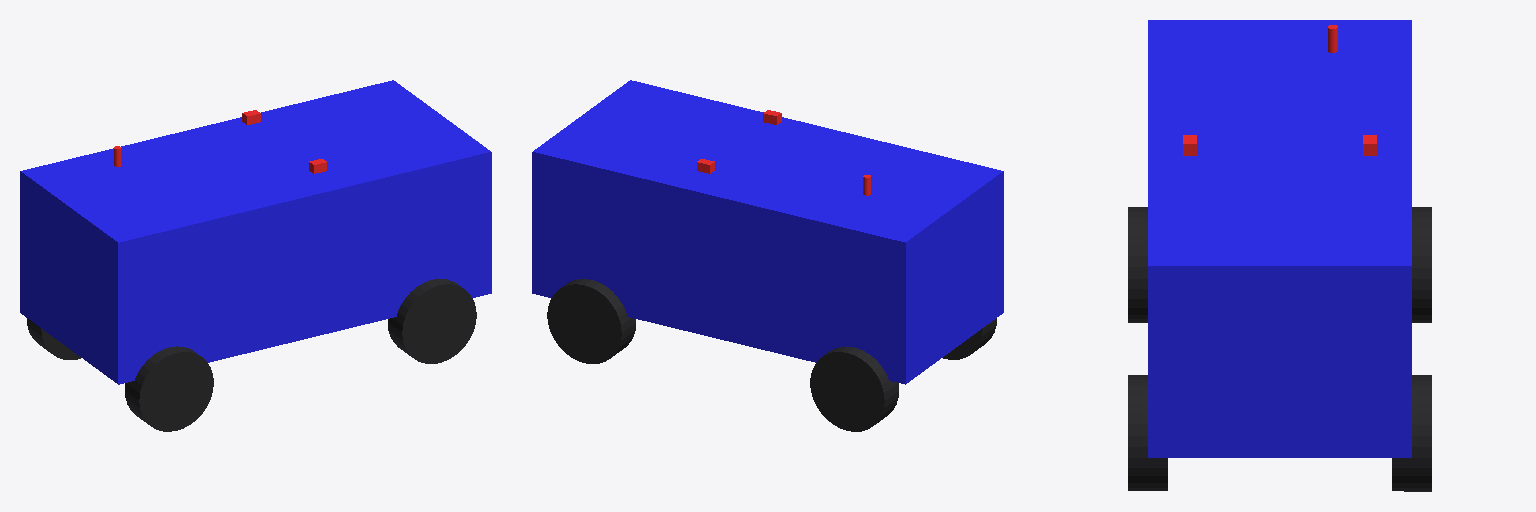
The robot description file, URDF, robot "Chevy":
<?xml version="1.0"?>

<robot name="Chevy">

    <!--   LINKS   -->

    <link name="body">
        <inertial>
            <origin xyz="0 0 0" rpy="0 0 0" />
            <mass value="1000" />
            <!-- TODO Calculate this correclty. And for lower COM"-->
            <inertia ixx="4166.67" ixy="0" ixz="0" iyy="10416.67" iyz="0" izz="10416.67" />
        </inertial>
        <visual>
            <origin xyz="0.5 0 0.05" rpy="0 0 0" />
            <geometry>
                <box size="11.0 5.0 4.0" />
            </geometry>
            <material name="blue">
                <color rgba="0.2 0.2 1.0 1"/>
            </material>
        </visual>
        <collision name="body_bounding_box">
            <origin xyz="0 0 0.05" rpy="0 0 0" />
            <geometry>
                <box size="13.2 5.7 5.3" />
            </geometry>
        </collision>
    </link>

    <link name="camera_1">
        <visual>
            <geometry>
                <box size="0.4 0.25 0.25"/>
            </geometry>
            <material name="red">
                <color rgba="1.0 0.2 0.2 1"/>
            </material>
        </visual>
    </link>
    
    <link name="camera_2">
        <visual>
            <geometry>
                <box size="0.4 0.25 0.25"/>
            </geometry>
            <material name="red">
                <color rgba="1.0 0.2 0.2 1"/>
            </material>
        </visual>
    </link>
    
    <link name="gps">
        <visual>
            <geometry>
                <cylinder radius="0.1" length="0.5"/>
            </geometry>
            <material name="red">
                <color rgba="1.0 0.2 0.2 1"/>
            </material>
        </visual>
    </link>
    
    <link name="imu">
        <visual>
            <geometry>
                <box size="0.5 0.5 0.2"/>
            </geometry>
            <material name="red">
                <color rgba="1.0 0.2 0.2 1"/>
            </material>
        </visual>
    </link>

    <link name="front_axle_mount"/>

    <link name="front_axle">
        <visual>
            <geometry>
                <cylinder radius="0.25" length="4.6"/>
            </geometry>
            <material name="grey">
                <color rgba="0.3 0.3 0.3 1"/>
            </material>
        </visual>
        <inertial>
            <origin xyz="0 0 0" rpy="0 0 0"/>
            <mass value="8.0"/>
            <!--inertia ixx=iyy=1/12 * m * ( 3r^2 + h^2) izz=1/2*m*r^2     -->
            <inertia ixx="14.2316666667" iyy="14.2316666667" ixy="0.0" ixz="0.0" izz="0.25" iyz="0.0"/>
        </inertial>
    </link>
    
    <link name="rear_axle_mount"/>

    <link name="rear_axle">
        <visual>
            <geometry>
                <cylinder radius="0.25" length="5.0"/>
            </geometry>
            <material name="grey">
                <color rgba="0.3 0.3 0.3 1"/>
            </material>
        </visual>
        <inertial>
            <origin xyz="0 0 0" rpy="0 0 0"/>
            <mass value="10.0"/>
            <!--inertia ixx=iyy=1/12 * m * ( 3r^2 + h^2) izz=1/2*m*r^2     -->
            <inertia ixx="20.9895833333" iyy="20.9895833333" ixy="0.0" ixz="0.0" izz="0.3125" iyz="0.0"/>
        </inertial>
    </link>

    <link name="front_left_steering_linkage">
        <visual>
            <geometry>
                <cylinder radius="0.25" length="0.2"/>
            </geometry>
            <material name="grey">
                <color rgba="0.3 0.3 0.3 1"/>
            </material>
        </visual>
        <inertial>
            <origin xyz="0 0 0" rpy="0 0 0"/>
            <mass value="1.0"/>
            <!--inertia ixx=iyy=1/12 * m * ( 3r^2 + h^2) izz=1/2*m*r^2     -->
            <inertia ixx="0.01895833333" iyy="0.01895833333" ixy="0.0" ixz="0.0" izz="0.02" iyz="0.0"/>
        </inertial>
    </link>
    <link name="front_right_steering_linkage">
        <visual>
            <geometry>
                <cylinder radius="0.25" length="0.2"/>
            </geometry>
            <material name="grey">
                <color rgba="0.3 0.3 0.3 1"/>
            </material>
        </visual>
        <inertial>
            <origin xyz="0 0 0" rpy="0 0 0"/>
            <mass value="1.0"/>
            <!--inertia ixx=iyy=1/12 * m * ( 3r^2 + h^2) izz=1/2*m*r^2     -->
            <inertia ixx="0.01895833333" iyy="0.01895833333" ixy="0.0" ixz="0.0" izz="0.02" iyz="0.0"/>
        </inertial>
    </link>

    <link name="wheel_front_left">
        <inertial>
            <origin xyz="0 0 0" rpy="0 0 0" />
            <mass value="30" />
            <inertia ixx="10.4812" ixy="0" ixz="0" iyy="10.48125" iyz="0" izz="18.15" />
        </inertial>
        <visual>
            <origin xyz="0 0 0" rpy="0 0 0" />
            <geometry>
                <cylinder length="0.75" radius="1.1" />
            </geometry>
            <material name="black">
                <color rgba="0.2 0.2 0.21 1" />
            </material>
        </visual>
    </link>

    <link name="wheel_front_right">
        <inertial>
            <origin xyz="0 0 0" rpy="0 0 0" />
            <mass value="30" />
            <inertia ixx="10.4812" ixy="0" ixz="0" iyy="10.48125" iyz="0" izz="18.15" />
        </inertial>
        <visual>
            <origin xyz="0 0 0" rpy="0 0 0" />
            <geometry>
                <cylinder length="0.75" radius="1.1" />
            </geometry>
            <material name="black">
                <color rgba="0.2 0.2 0.21 1" />
            </material>
        </visual>
    </link>

    <link name="wheel_rear_left">
        <inertial>
            <origin xyz="0 0 0" rpy="0 0 0" />
            <mass value="30" />
            <inertia ixx="10.4812" ixy="0" ixz="0" iyy="10.48125" iyz="0" izz="18.15" />
        </inertial>
        <visual>
            <origin xyz="0 0 0" rpy="0 0 0" />
            <geometry>
                <cylinder length="0.75" radius="1.1" />
            </geometry>
            <material name="black">
                <color rgba="0.2 0.2 0.21 1" />
            </material>
        </visual>
    </link>

    <link name="wheel_rear_right">
        <inertial>
            <origin xyz="0 0 0" rpy="0 0 0" />
            <mass value="30" />
            <inertia ixx="10.4812" ixy="0" ixz="0" iyy="10.48125" iyz="0" izz="18.15" />
        </inertial>
        <visual>
            <origin xyz="0 0 0" rpy="0 0 0" />
            <geometry>
                <cylinder length="0.75" radius="1.1" />
            </geometry>
            <material name="black">
                <color rgba="0.2 0.2 0.21 1" />
            </material>
        </visual>
    </link>

    <!--   JOINTS  -->

    <!--joint name="world_to_road" type="fixed">
        <parent link="world" />
        <child link="road" />
        <origin xyz="0 -150 0" rpy="1.57 0 0"/>
    </joint-->
    
    <joint name="body_to_camera_1" type="fixed">
        <parent link="body"/>
        <child link="camera_1"/>
        <origin xyz="1.35 1.7 2.4" rpy="0 0.02 0"/>
    </joint>
    
    <joint name="body_to_camera_2" type="fixed">
        <parent link="body"/>
        <child link="camera_2"/>
        <origin xyz="1.35 -1.7 2.4" rpy="0 0.02 0"/>
    </joint>
    
    <joint name="body_to_gps" type="fixed">
        <parent link="body"/>
        <child link="gps"/>
        <origin xyz="-3.0 1.0 2.6" rpy="0 0 0"/>
    </joint>
    
    <joint name="body_to_imu" type="fixed">
        <parent link="body"/>
        <child link="imu"/>
        <origin xyz="0 0 0.7" rpy="0 0.02 0"/>
    </joint>
    
    <joint name="body_to_front_axle_mount" type="prismatic">
        <parent link="body"/>
        <child link="front_axle_mount"/>
        <origin xyz="4.25 0 -2.25" rpy="0 0 0"/>
        <axis xyz="0 0 1"/>
    </joint>

    <joint name="body_to_rear_axle_mount" type="prismatic">
        <parent link="body"/>
        <child link="rear_axle_mount"/>
        <origin xyz="-3.5 0 -2.35" rpy="0 0 0"/>
        <axis xyz="0 0 1.0"/>
    </joint>

    <joint name="mount_to_front_axle" type="revolute">
        <parent link="front_axle_mount"/>
        <child link="front_axle"/>
        <origin xyz="0 0 0" rpy="1.57 0 0"/>
        <axis xyz="1 0 0"/>
        <limit lower="-0.4" upper="0.4"/>
    </joint>

    <joint name="mount_to_rear_axle" type="revolute">
        <parent link="rear_axle_mount"/>
        <child link="rear_axle"/>
        <origin xyz="0 0 0" rpy="1.57 0 0"/>
        <axis xyz="1 0 0"/>
        <limit lower="-0.4" upper="0.4"/>
    </joint>
    
    <joint name="front_axle_to_left_linkage" type="revolute">
        <parent link="front_axle"/>
        <child link="front_left_steering_linkage"/>
        <origin xyz="0 0 2.3" rpy="0 0 0"/>
        <axis xyz="0 1 0"/>
        <limit lower="-0.6" upper="0.6"/>
    </joint>

    <joint name="front_axle_to_right_linkage" type="revolute">
        <parent link="front_axle"/>
        <child link="front_right_steering_linkage"/>
        <origin xyz="0 0 -2.3" rpy="0 0 0"/>
        <axis xyz="0 1 0"/>
        <limit lower="-0.6" upper="0.6"/>
    </joint>

    <joint name="front_linkage_to_left_wheel" type="continuous">
        <parent link="front_left_steering_linkage" />
        <child link="wheel_front_left" />
        <origin xyz="0 0 0.2" rpy="0 0 0"/>
        <axis xyz="0 0 1" />
    </joint>

    <joint name="front_linkage_to_right_wheel" type="continuous">
        <parent link="front_right_steering_linkage" />
        <child link="wheel_front_right" />
        <origin xyz="0 0 -0.2" rpy="0 0 0"/>
        <axis xyz="0 0 1" />
    </joint>

    <joint name="rear_axle_to_left_wheel" type="continuous">
        <parent link="rear_axle" />
        <child link="wheel_rear_left" />
        <origin xyz="0 0 2.5" rpy="0 0 0"/>
        <axis xyz="0 0 1" />
    </joint>

    <joint name="rear_axle_to_right_wheel" type="continuous">
        <parent link="rear_axle" />
        <child link="wheel_rear_right" />
        <origin xyz="0 0 -2.5" rpy="0 0 0"/>
        <axis xyz="0 0 1" />
    </joint>
</robot>

--- What the picture shows (computed from the rendered views, not written in the file) ---
The picture shows the robot from 3 angles, left to right: view 1: azimuth 30°, elevation 25°; view 2: azimuth 150°, elevation 25°; view 3: azimuth 270°, elevation 25°; orthographic projection.
Model Chevy with 15 links and 14 joints (4 revolute, 4 continuous, 2 prismatic, 4 fixed), rooted at body, posed every joint at zero.
Visible links, largest first — view 1: body, wheel_rear_left, wheel_front_left, wheel_rear_right; view 2: body, wheel_rear_right, wheel_front_right, wheel_rear_left; view 3: body, wheel_front_right, wheel_front_left, wheel_rear_left, wheel_rear_right.
Boxes of the visible links, bbox=[...] form: body: bbox=[20, 80, 491, 384]; wheel_rear_left: bbox=[125, 346, 213, 431]; wheel_front_left: bbox=[388, 279, 476, 363]; wheel_rear_right: bbox=[27, 318, 80, 359]; body: bbox=[532, 80, 1003, 384]; wheel_rear_right: bbox=[810, 346, 898, 431]; wheel_front_right: bbox=[547, 279, 635, 363]; wheel_rear_left: bbox=[943, 318, 996, 359]; body: bbox=[1148, 20, 1411, 457]; wheel_front_right: bbox=[1392, 375, 1431, 491]; wheel_front_left: bbox=[1128, 375, 1167, 490]; wheel_rear_left: bbox=[1128, 207, 1147, 322]; wheel_rear_right: bbox=[1412, 207, 1431, 322].
Bounding box of the posed robot: 11 × 5.75 × 6.3 m (x, y, z).
Geometry: primitives only (box / cylinder / sphere), no mesh files.
